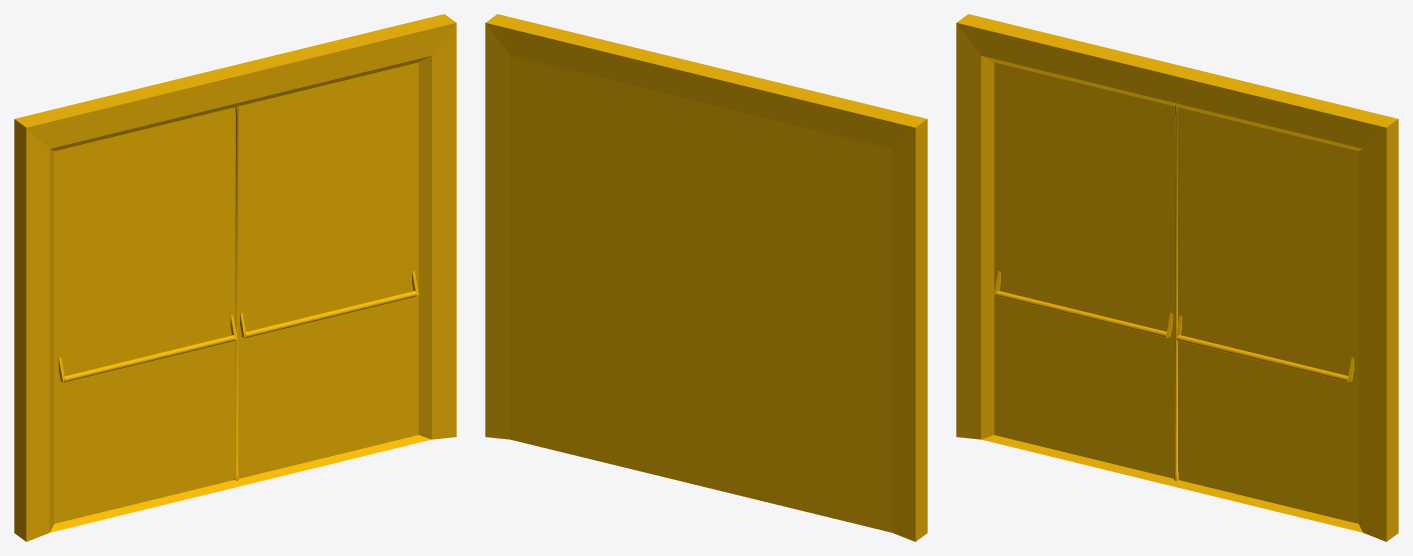
The model's file is exitdoor.fbx.
The picture shows the model from 3 angles, left to right: view 1: azimuth 30°, elevation 25°; view 2: azimuth 150°, elevation 25°; view 3: azimuth 330°, elevation 25°; orthographic projection.
Visible parts, largest first — view 1: Puerta salida; view 2: Puerta salida; view 3: Puerta salida.
Part boxes in pixels (bbox=[...]): Puerta salida: bbox=[14, 14, 456, 541]; Puerta salida: bbox=[485, 14, 927, 541]; Puerta salida: bbox=[956, 14, 1398, 541].
Size of the model in its own units: 655 by 603 by 31.67.
